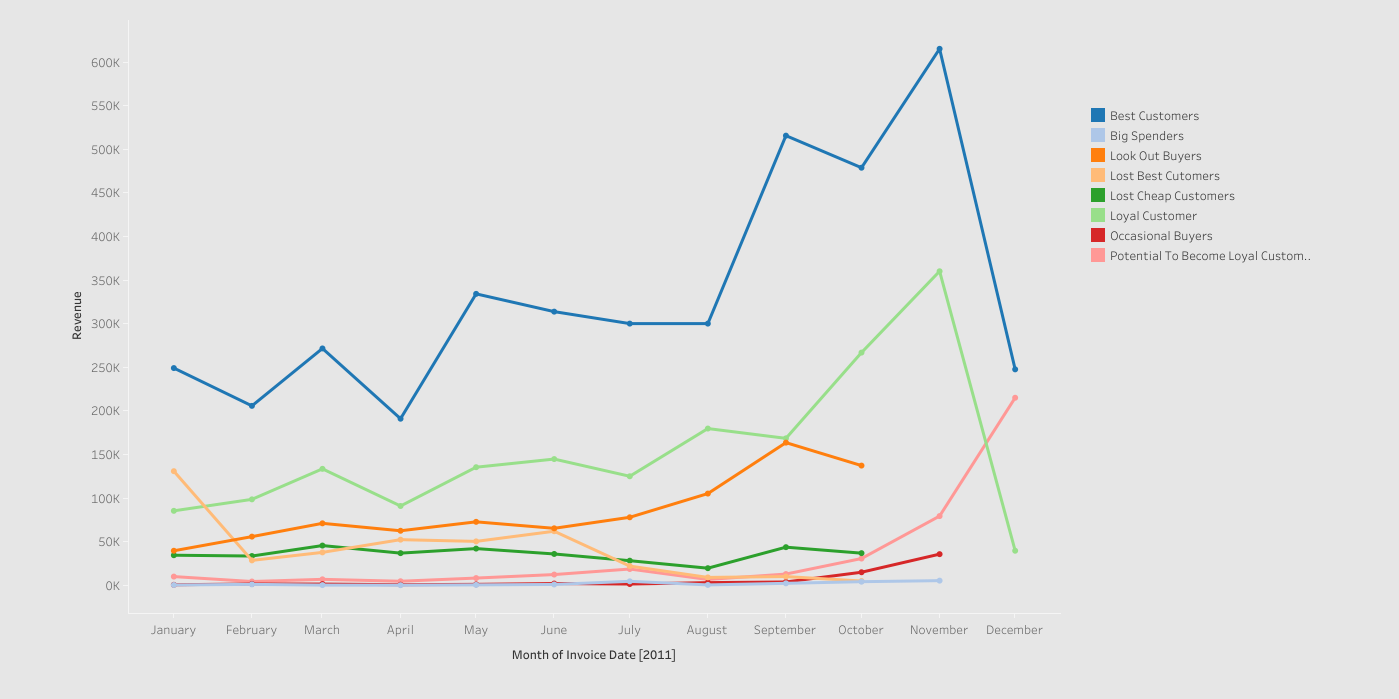

The dashboard page shown, as its layout file describes it:
{"tool":"tableau","page":{"name":"Sales_over_Time_for_RFM_Customer_Segments","canvas":[1400,700],"ordinal":9},"visuals":[{"type":"worksheet","title":"RFM Segment-Sales over Time","mark":"Line","rows":["Calculation_1441996330369675264"],"cols":["InvoiceDate"],"box":[60,20,1000,650]},{"type":"legend","title":"RFM Segment-Sales over Time","param":"[federated.120o6hi1b9q1li126ojbf0d454lv].[none:Customer Segment:nk]","box":[1088,105,226,163]}]}

Visuals, with their boxes in screenshot pixels (x1, y1, x2, y2), scaled from the page's 1400x700 canvas onto the 1399x699 screenshot:
"RFM Segment-Sales over Time" worksheet (Line marks): BBox(60, 20, 1059, 669)
"RFM Segment-Sales over Time" legend: BBox(1087, 105, 1313, 268)
